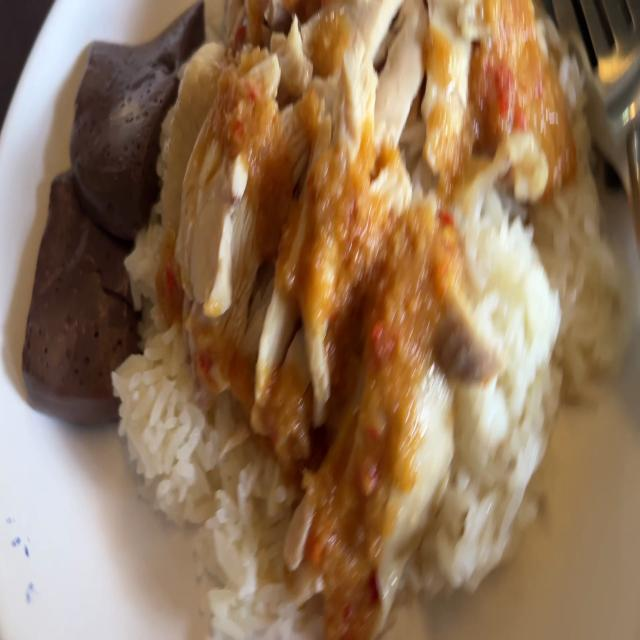boiled_chicken: (213, 0, 474, 479)
boiled_chicken_blood_jelly: (25, 156, 133, 421), (72, 19, 182, 237)
chicken_rice: (50, 0, 602, 613)
